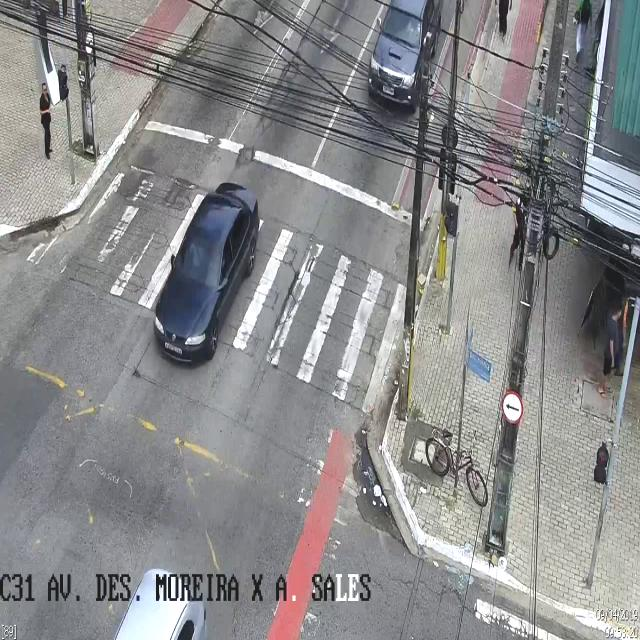Car: (154, 183, 256, 367), (365, 2, 440, 108), (115, 569, 195, 639)
